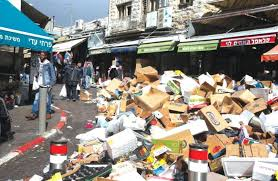garbage: (99, 75, 278, 180)
